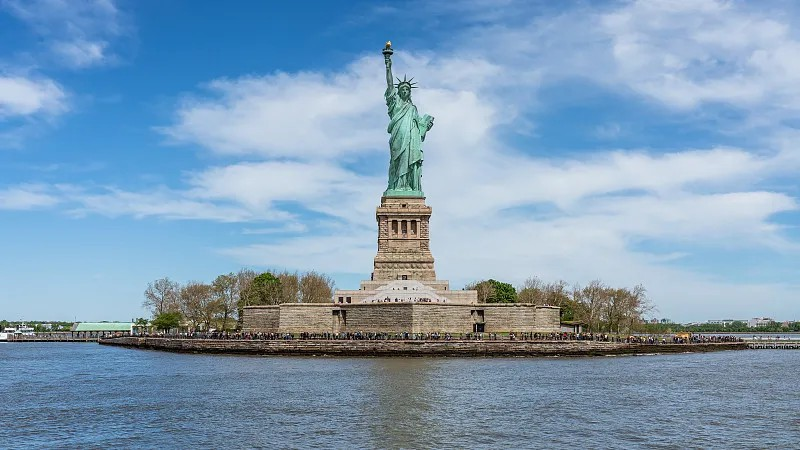SL: (369, 40, 437, 280)
